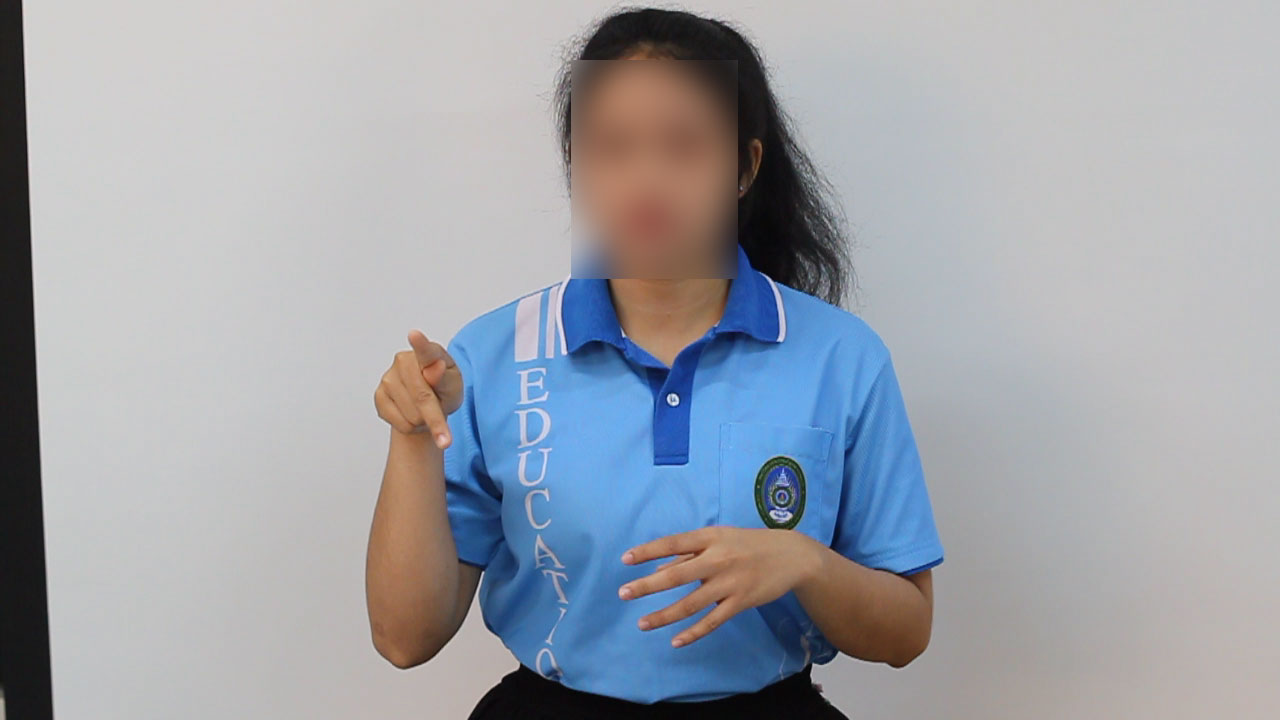por: (353, 313, 478, 462)
